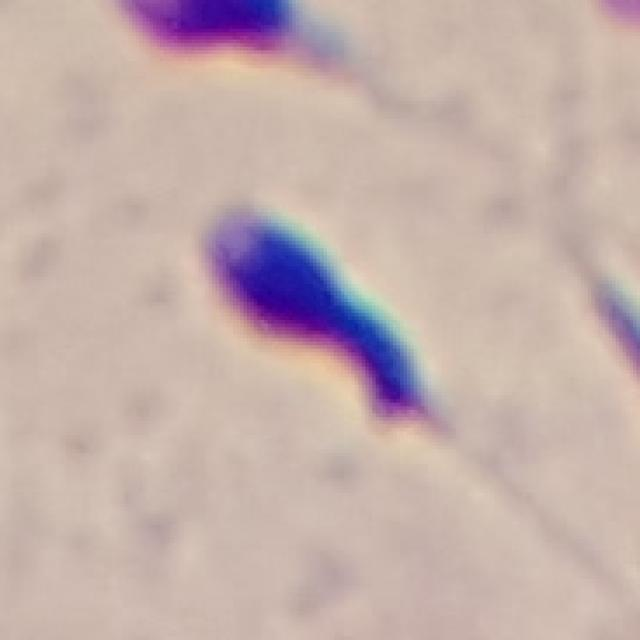abnormal sperm: (182, 184, 527, 496)
